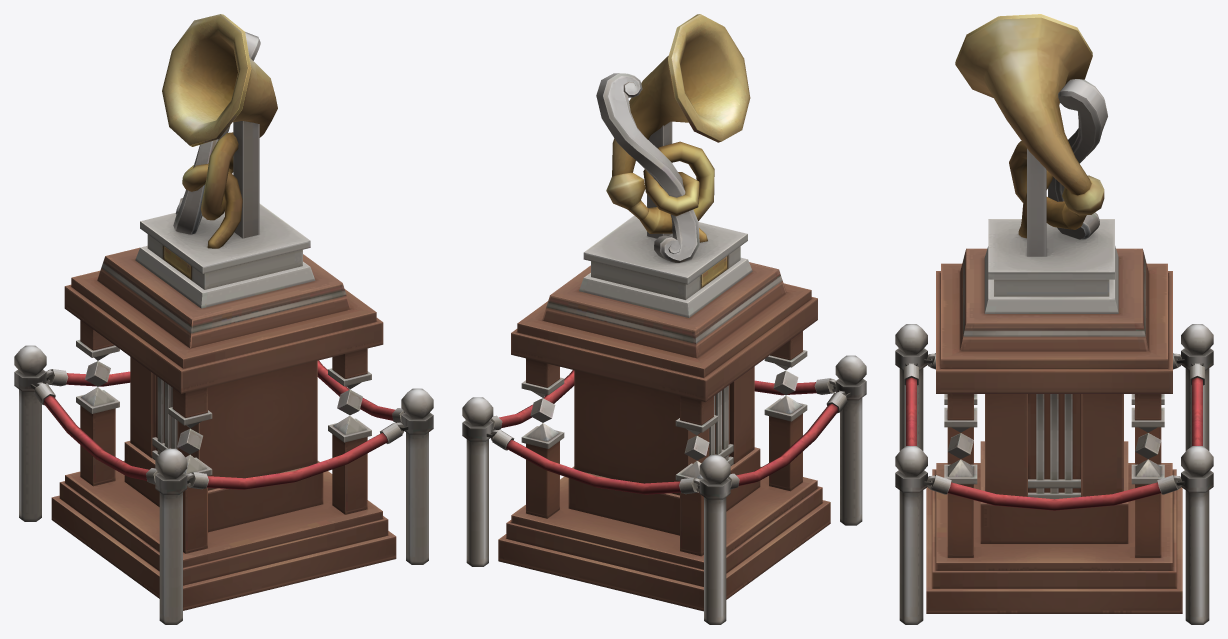
Rendered from my_wildhunt_01_displaystand_03.glb.
3 renders of one model, left to right at view 1: azimuth 30°, elevation 25°; view 2: azimuth 150°, elevation 25°; view 3: azimuth 270°, elevation 25°, orthographic. The views are drawn at different scales.
Parts seen in each view (by area): view 1: my_wildhunt_01_displaystand_03; view 2: my_wildhunt_01_displaystand_03; view 3: my_wildhunt_01_displaystand_03.
Boxes of the visible parts, left/top/right/bottom form: my_wildhunt_01_displaystand_03: left=14, top=14, right=433, bottom=624; my_wildhunt_01_displaystand_03: left=462, top=14, right=866, bottom=624; my_wildhunt_01_displaystand_03: left=895, top=14, right=1213, bottom=624.
Bounding box in the file's own units: 0.00589 × 0.0111 × 0.00592.
1 material, 1 textured.
